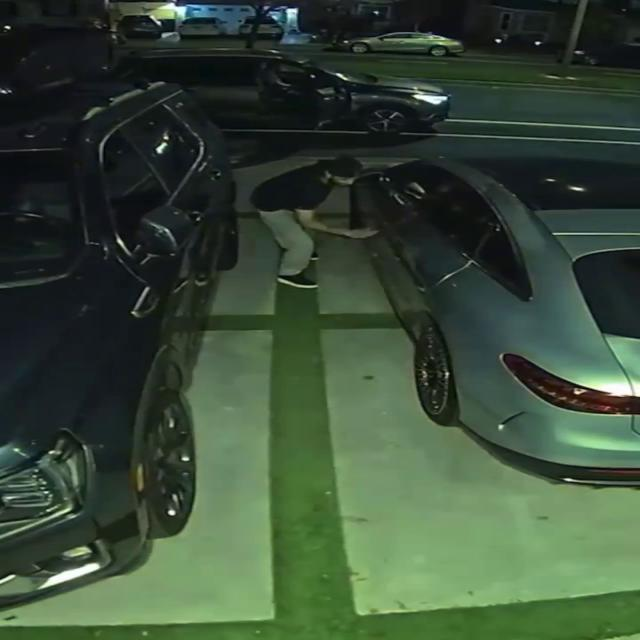Theft - Alert: (350, 156, 639, 490), (252, 155, 377, 288)
